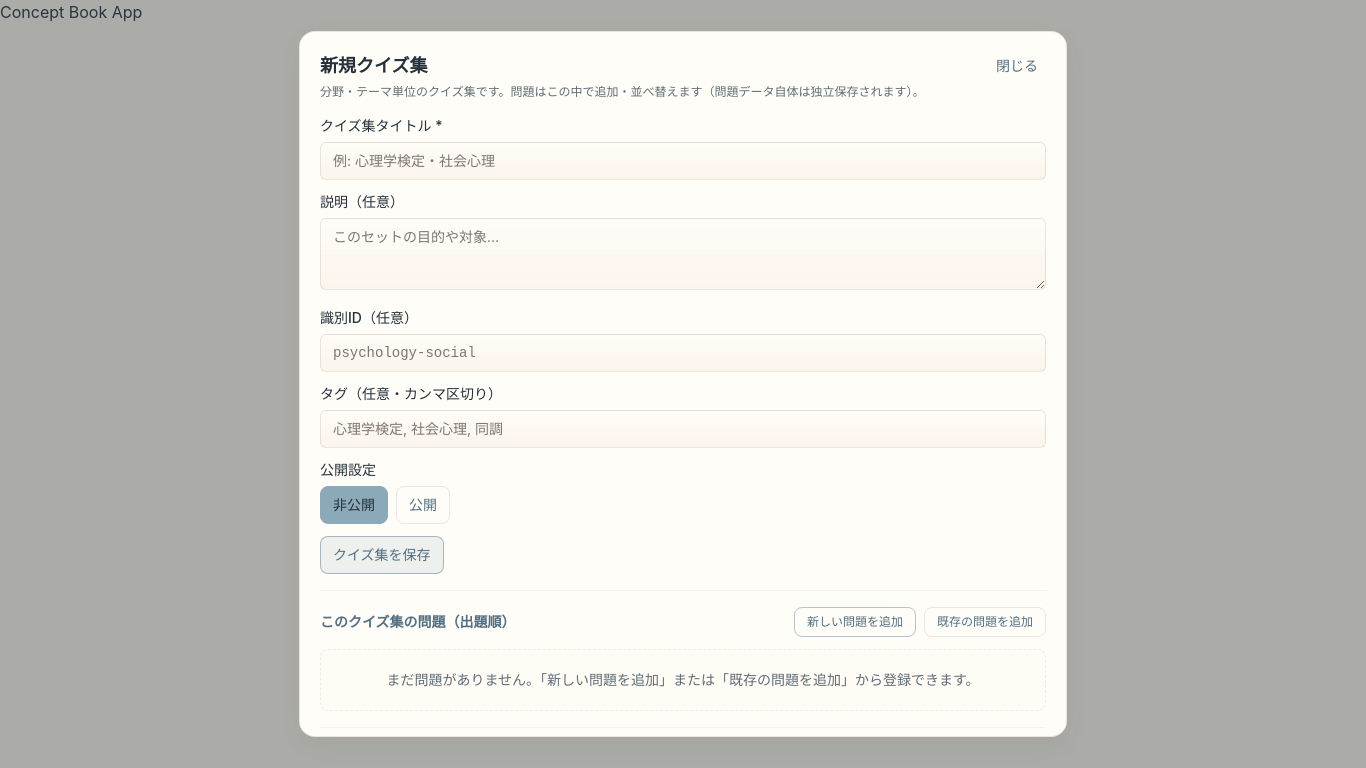
quiz modal stacking › QuizDeckFormModal から QuizQuestionFormModal を開くと Question が前面に portal される
Type "テスト集" into the field labelled "クイズ集タイトル *".
click(683, 161); type("テスト集")  # box [320,142,1046,180]
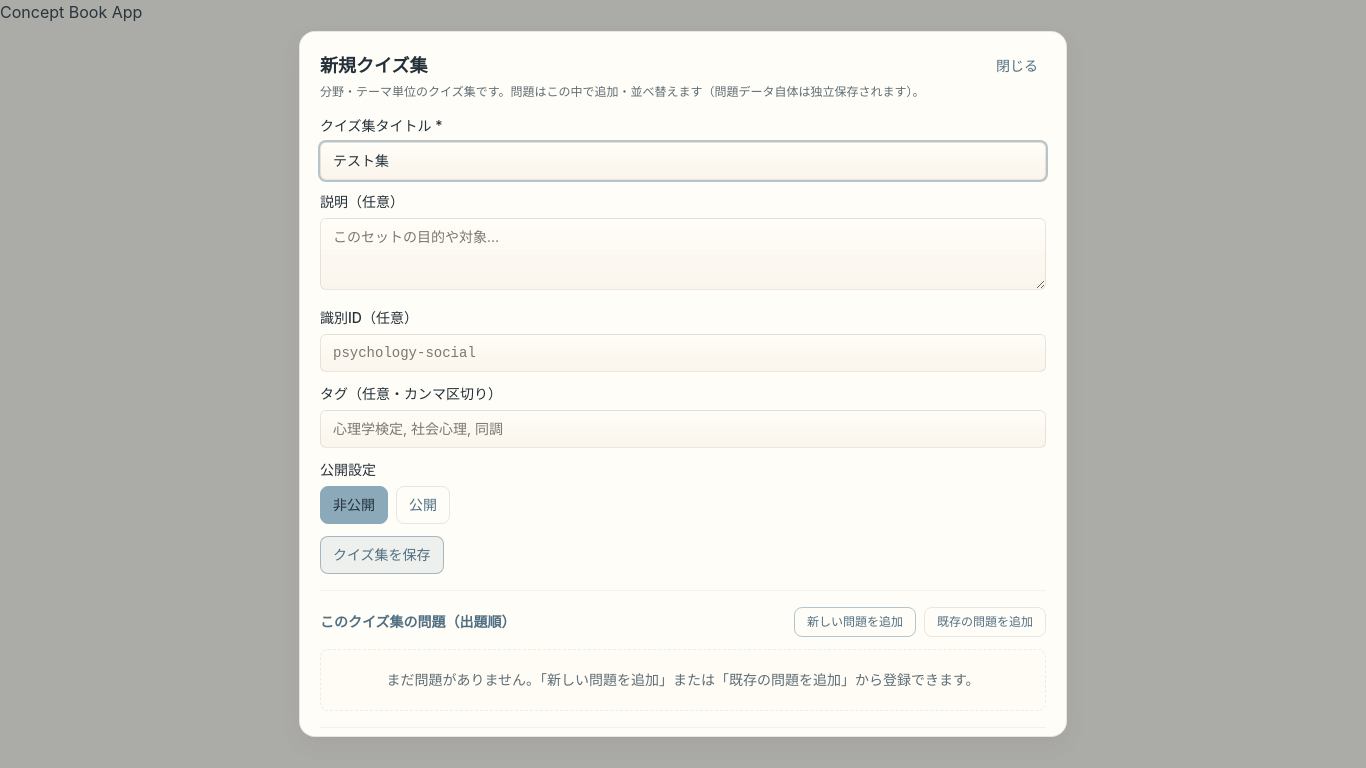
Click the button "新しい問題を追加".
click(855, 622)  # box [794,607,916,637]
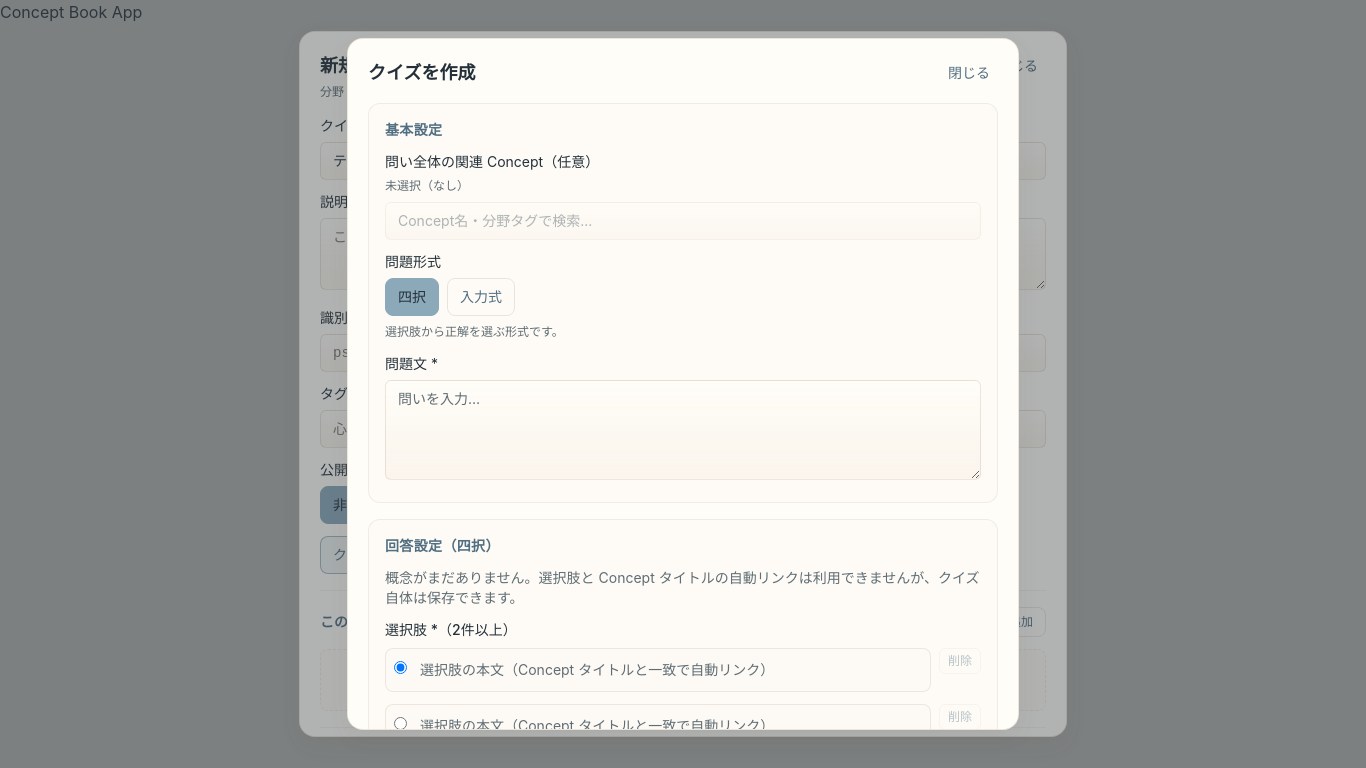
Click the button "閉じる".
click(969, 73)  # box [940,59,998,87]
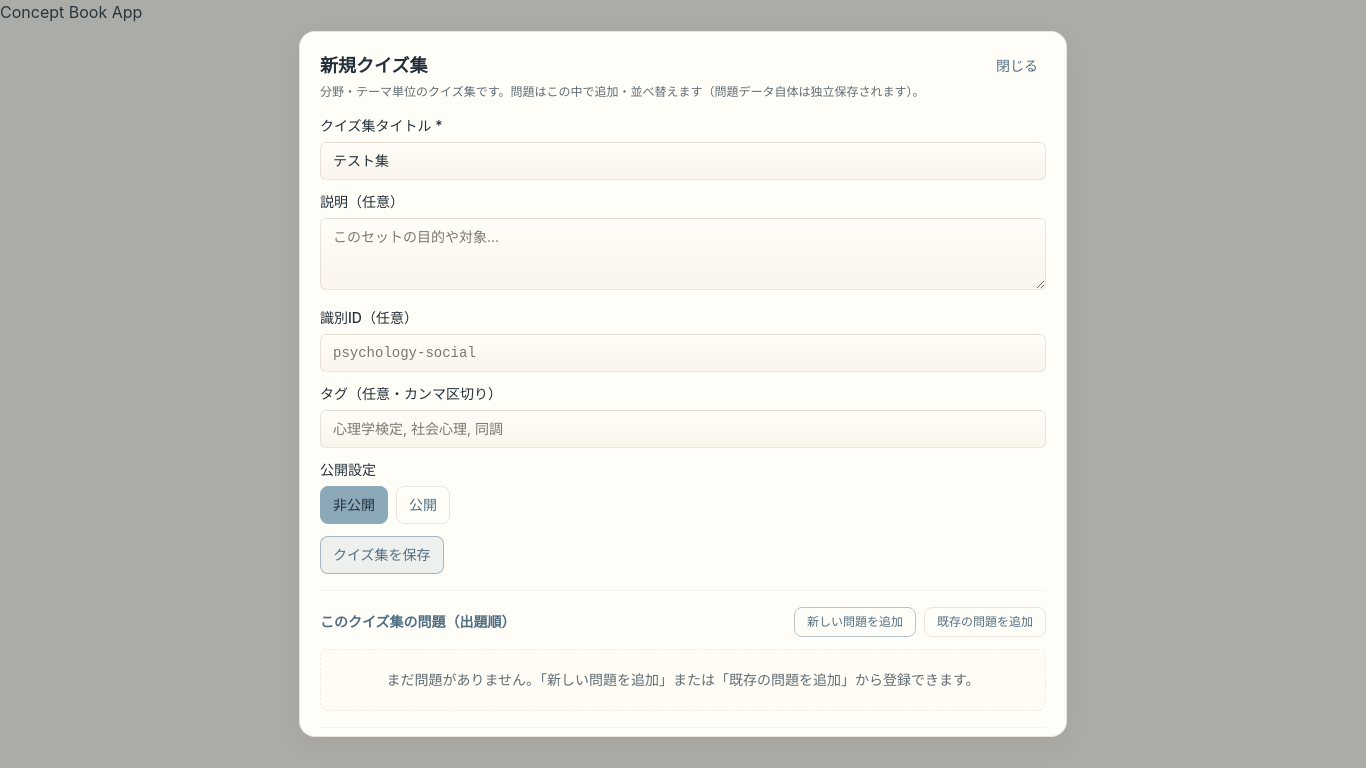
Result: the heading "クイズを作成" is gone
